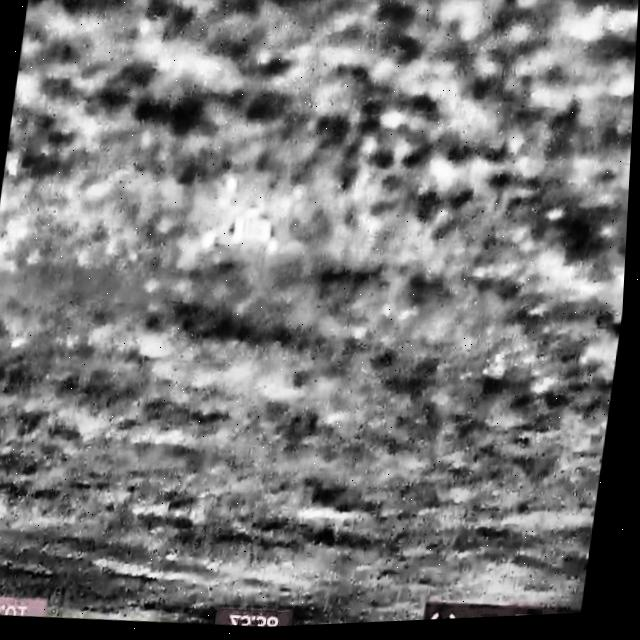drone: (199, 174, 311, 272)
